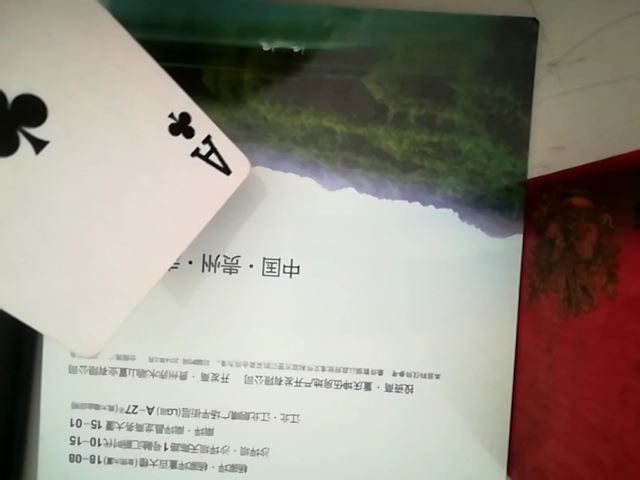mh a: (0, 0, 256, 359)
